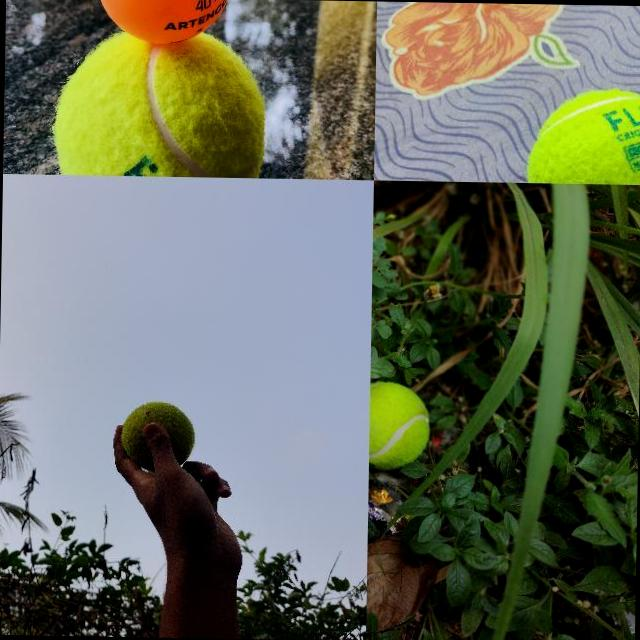tennis-ball: (54, 42, 266, 177), (525, 86, 640, 183), (368, 380, 430, 469), (120, 400, 196, 472)
